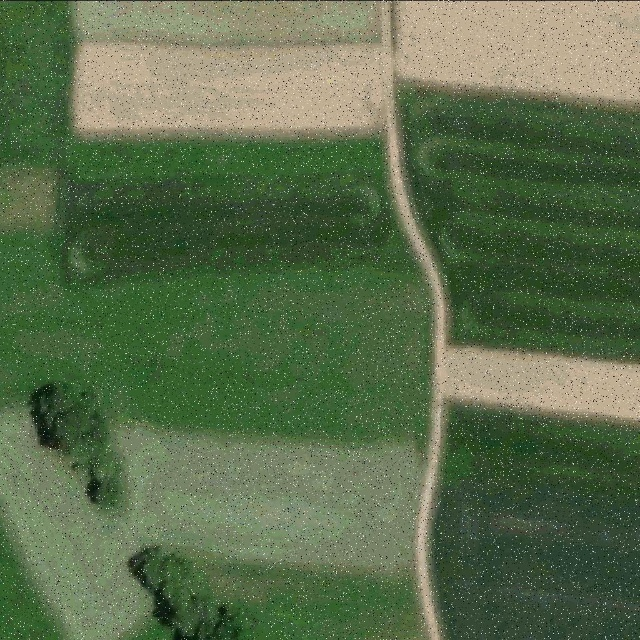vegetation: (29, 380, 117, 511), (124, 546, 246, 640)
